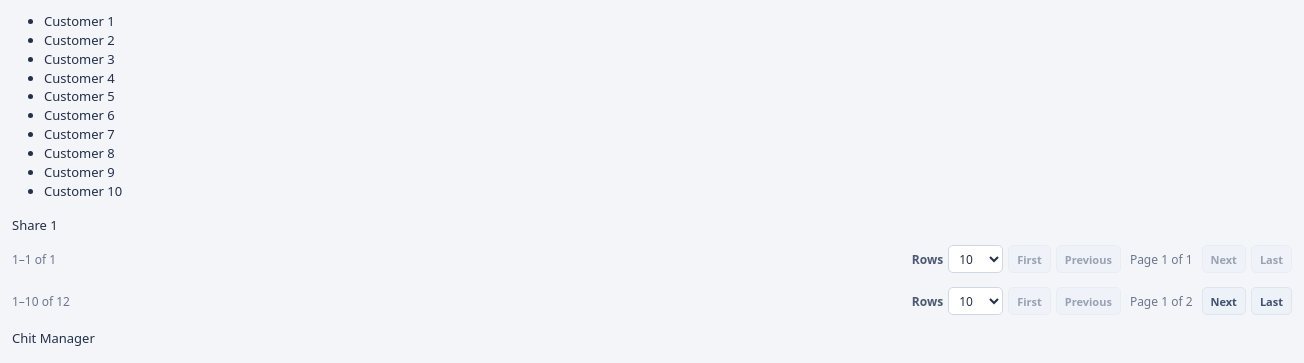
Scenario: main pagination stays above the footer on all screens while nested pagination stays inline
The width and height of the screenshot is (1304, 363).
Expected: the navigation bar named "Customers pagination" is shown, [12,287,1292,315]
Step 1. Click the button with aria-label "Customers: next page" → (1224, 301), box [1202,287,1246,315]
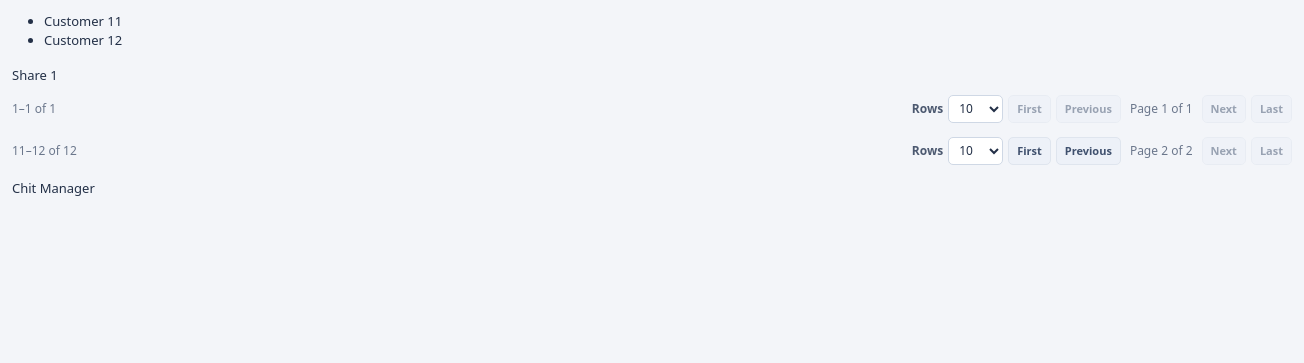
Expected: the list item "Customer 11" is shown, [44,12,122,30]
Expected: the text "Page 2 of 2" is shown, [1126,142,1197,159]
